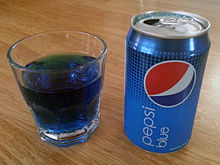can: (125, 2, 215, 159)
